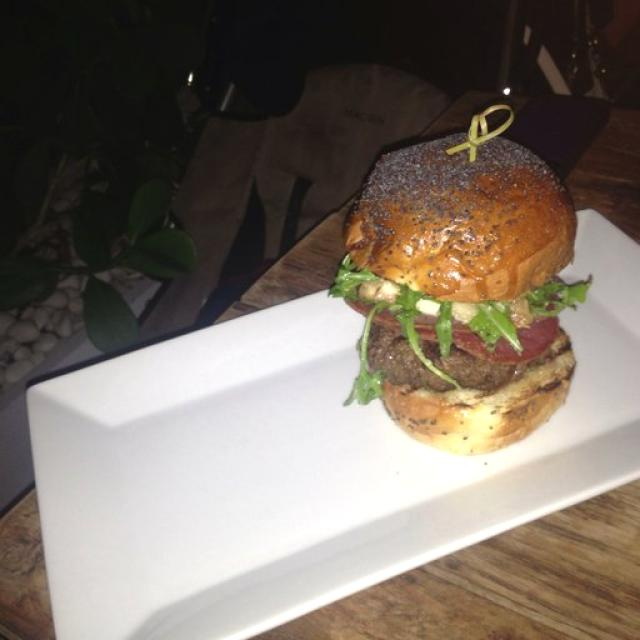burger: (332, 129, 590, 465)
